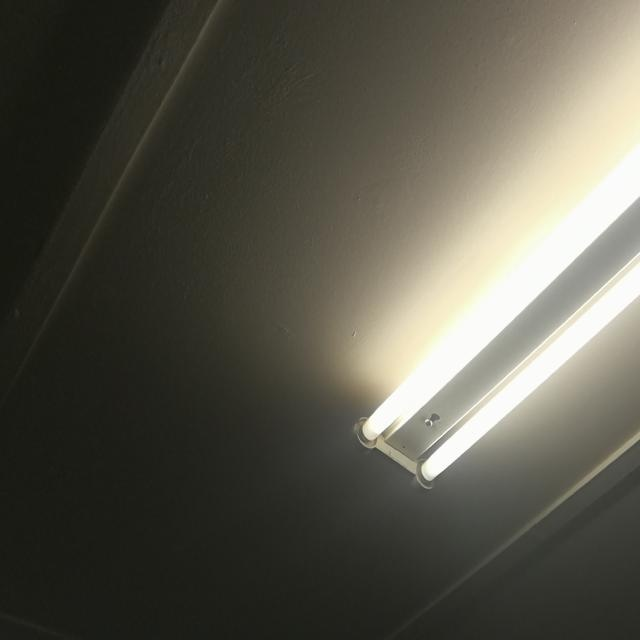fluorescent tube: (343, 0, 640, 456), (421, 0, 640, 501)
